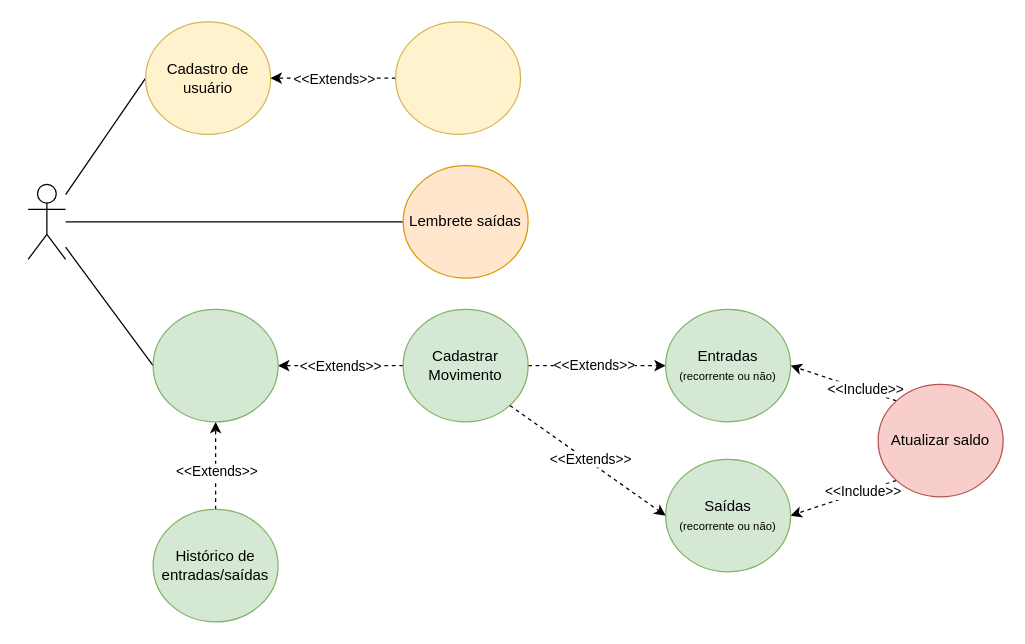
Some shapes in this 1025 by 644 pixel diagram are drawn without their labels. The shapes that lost their labels are listed below. From the top down, each one's centre as x and y in pixels, then its label:
(457,77): Atualizar cadastro
(46,221): Usuário
(215,365): Gerenciamento De Finanças
